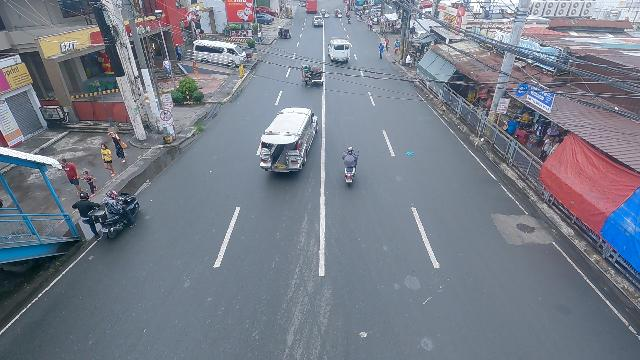car: (312, 15, 323, 27)
jeepney: (251, 106, 323, 182)
motorcycle: (341, 148, 361, 187), (298, 58, 324, 87), (278, 26, 291, 39), (347, 16, 351, 24)
van: (328, 37, 353, 65), (334, 10, 343, 18)
